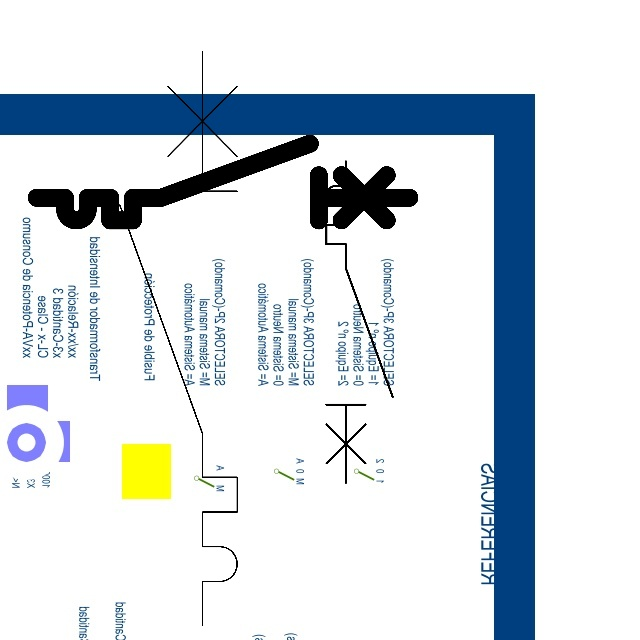interruptor_termomagnetico: (105, 37, 252, 640), (27, 134, 419, 230), (318, 153, 400, 491)
